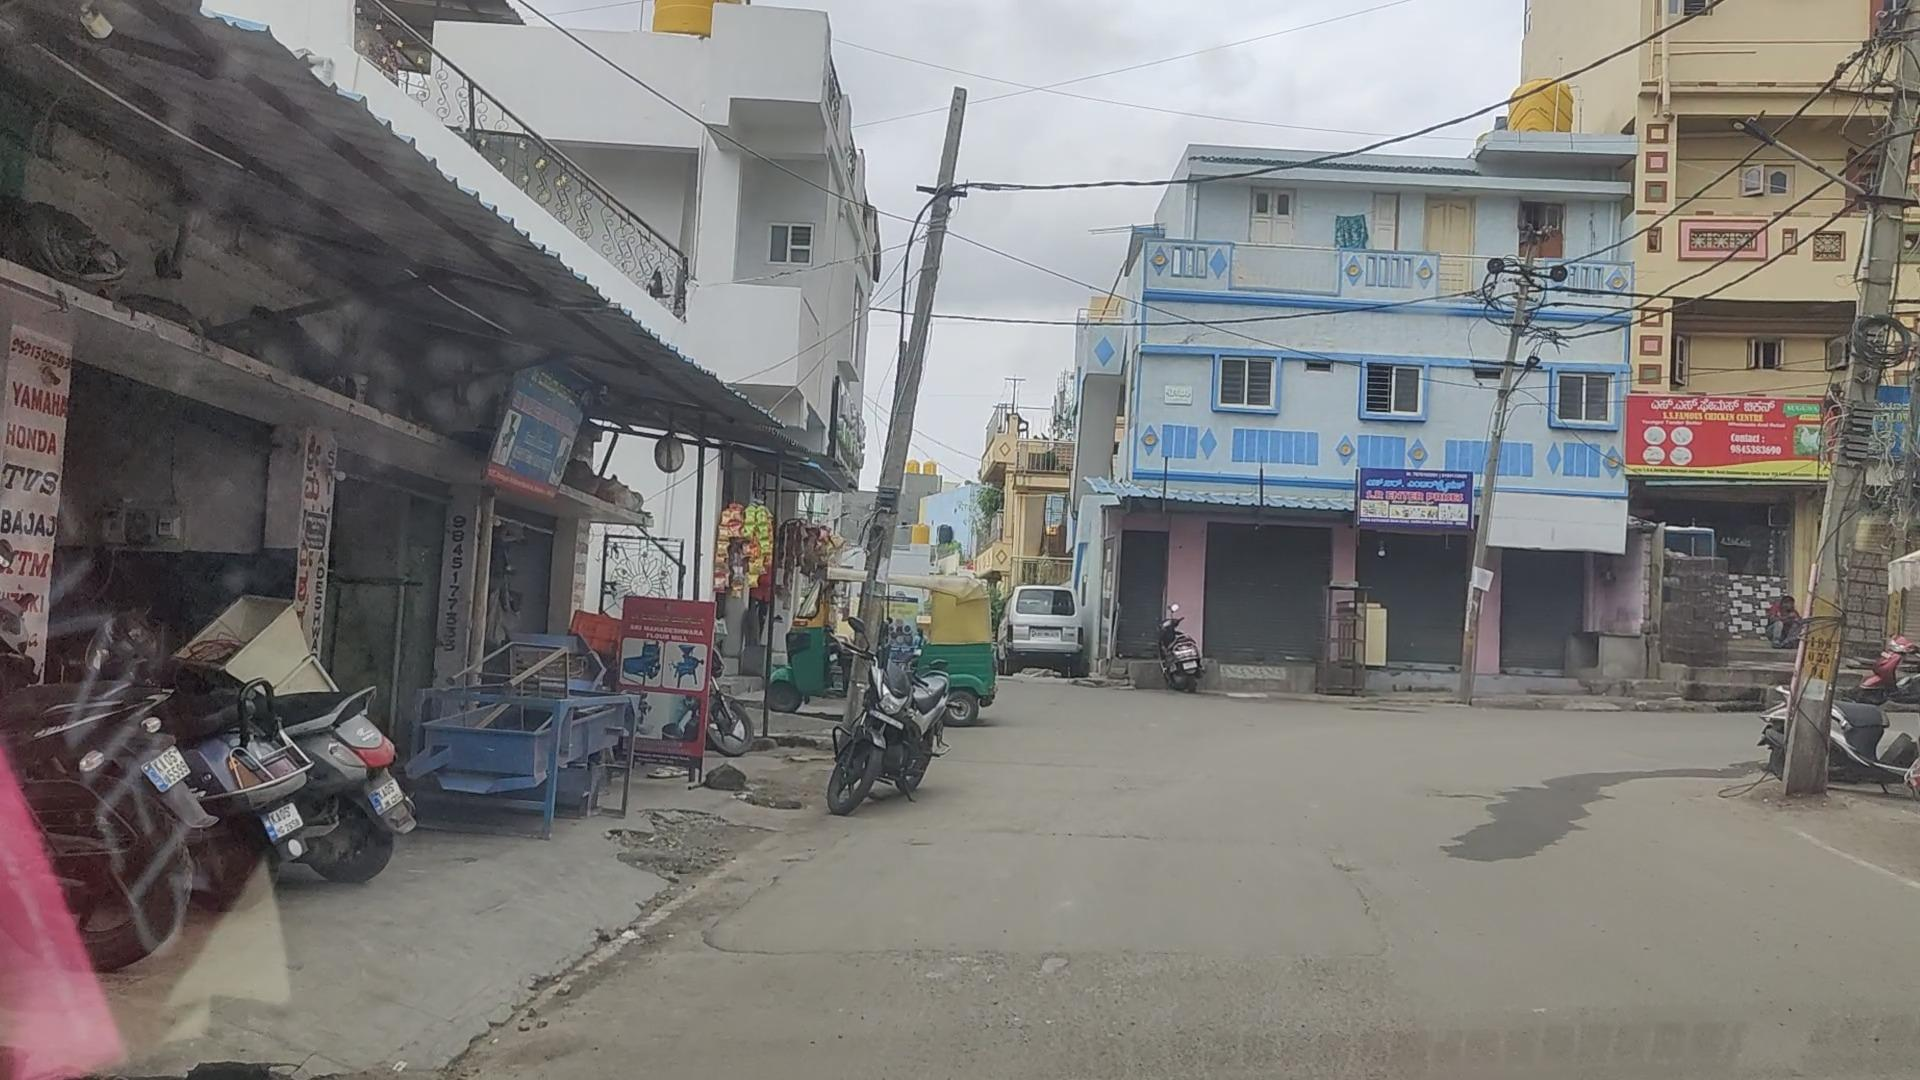RoadDamages: (702, 922, 1121, 1004)
